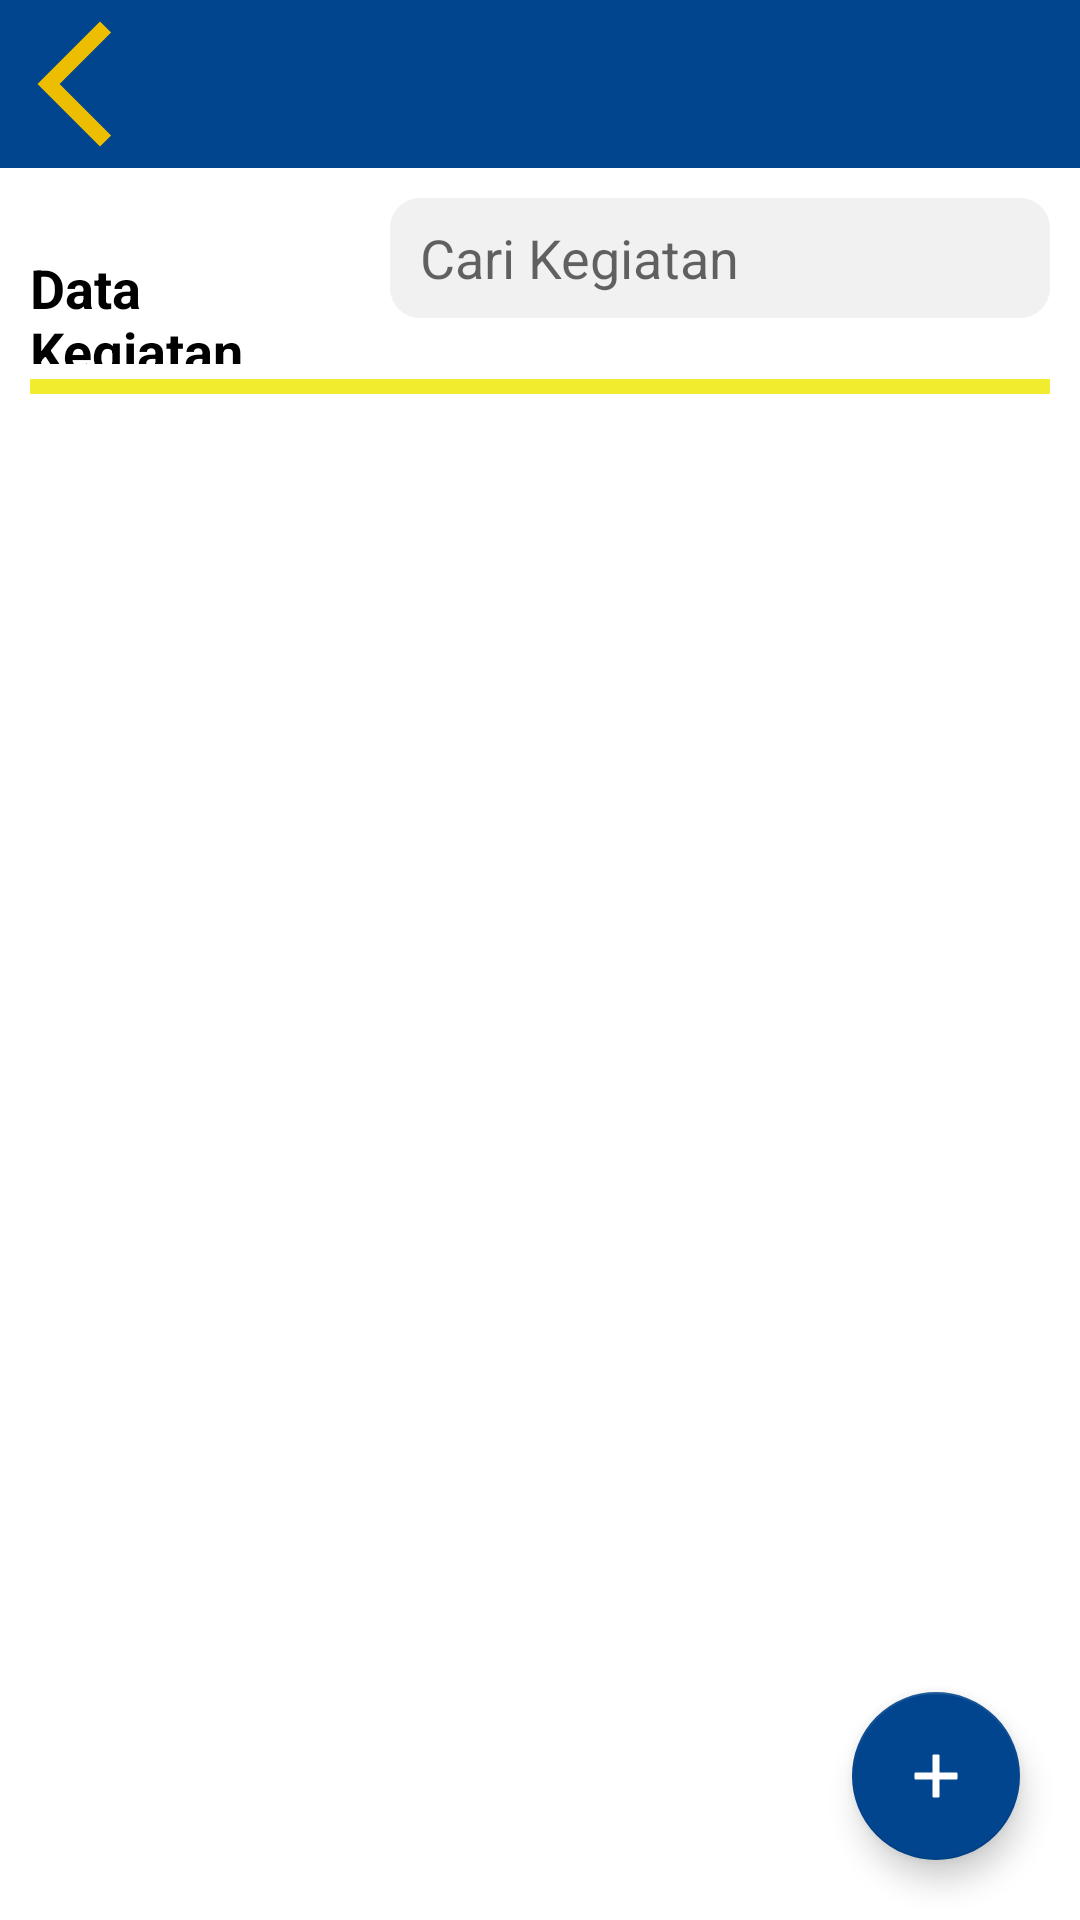

Icons on this 1080 × 1920 Android screen, each with the point to tap as [x,y]:
add: [936,1776]
arrow back: [74,84]
